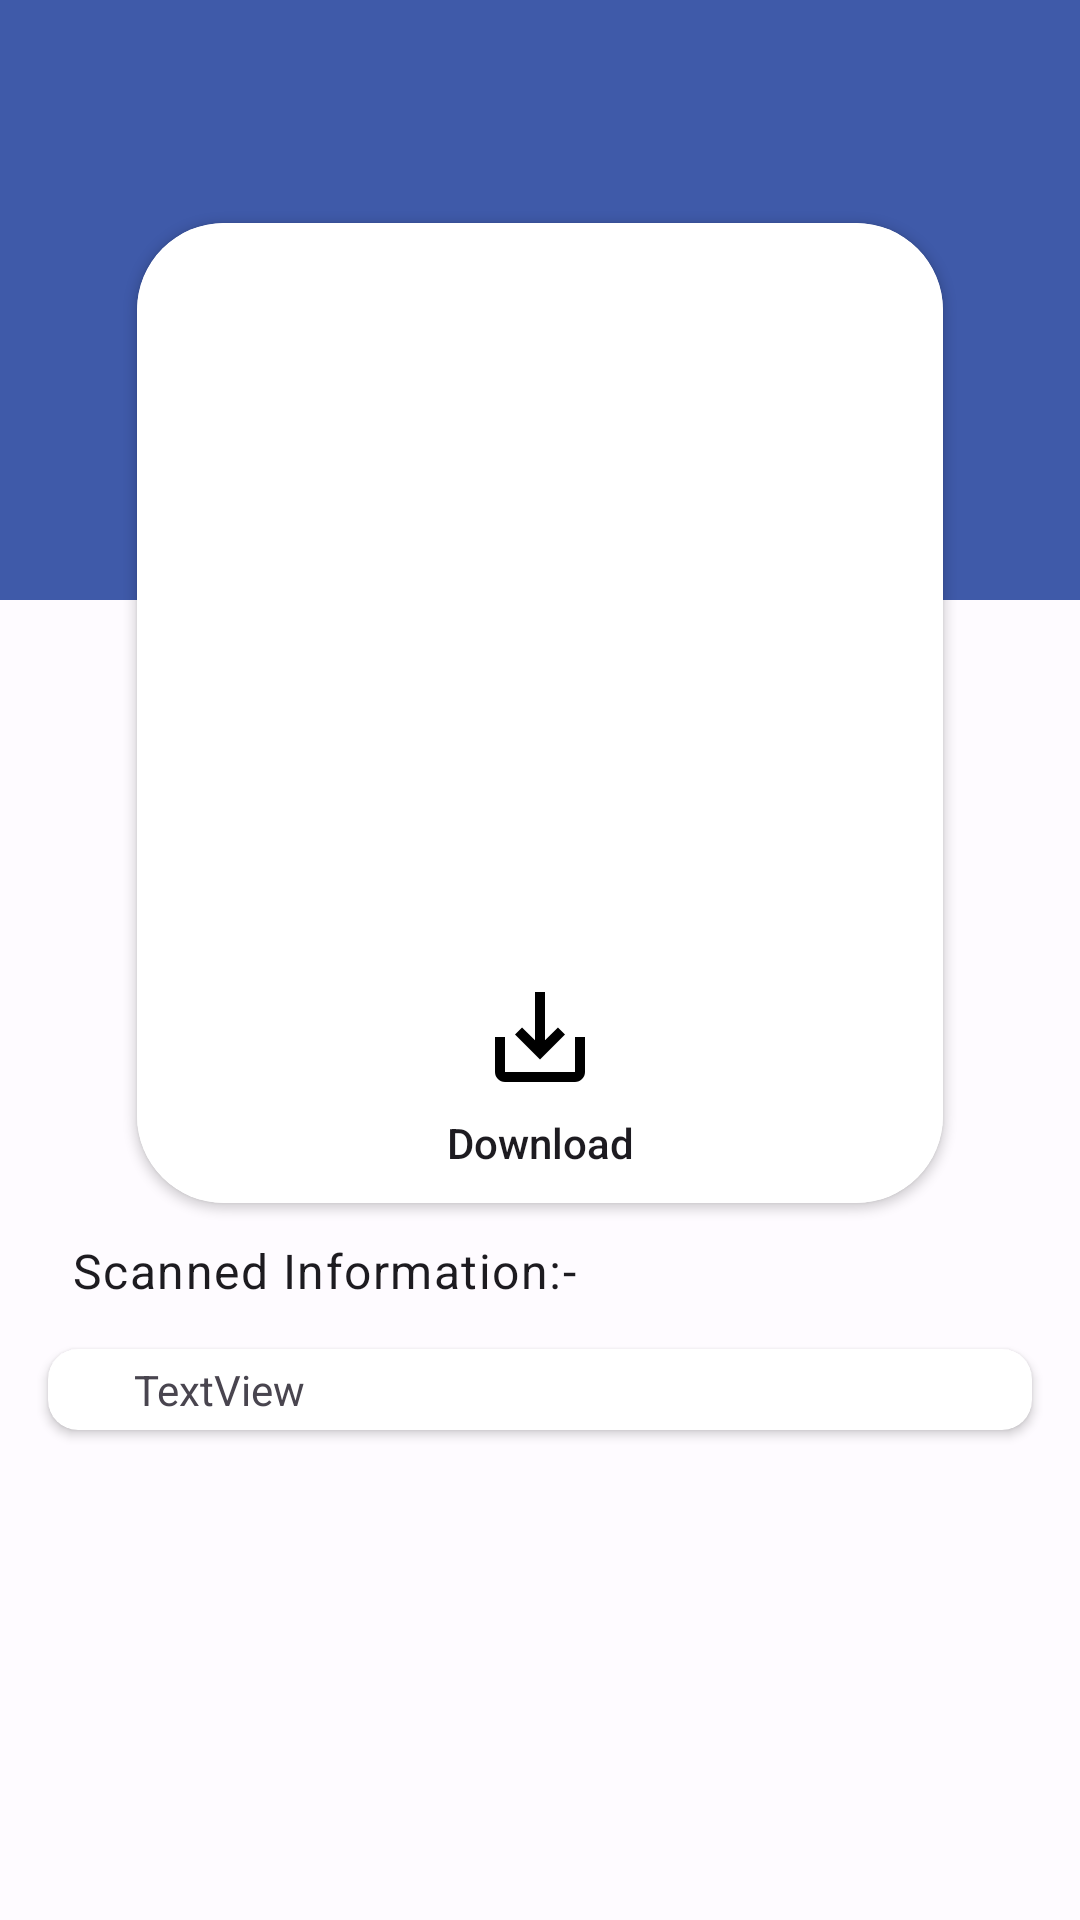

Icons on this 1080*1920 Android screen, each with the point to tap as (x=x, y=y):
save: (x=540, y=1037)
